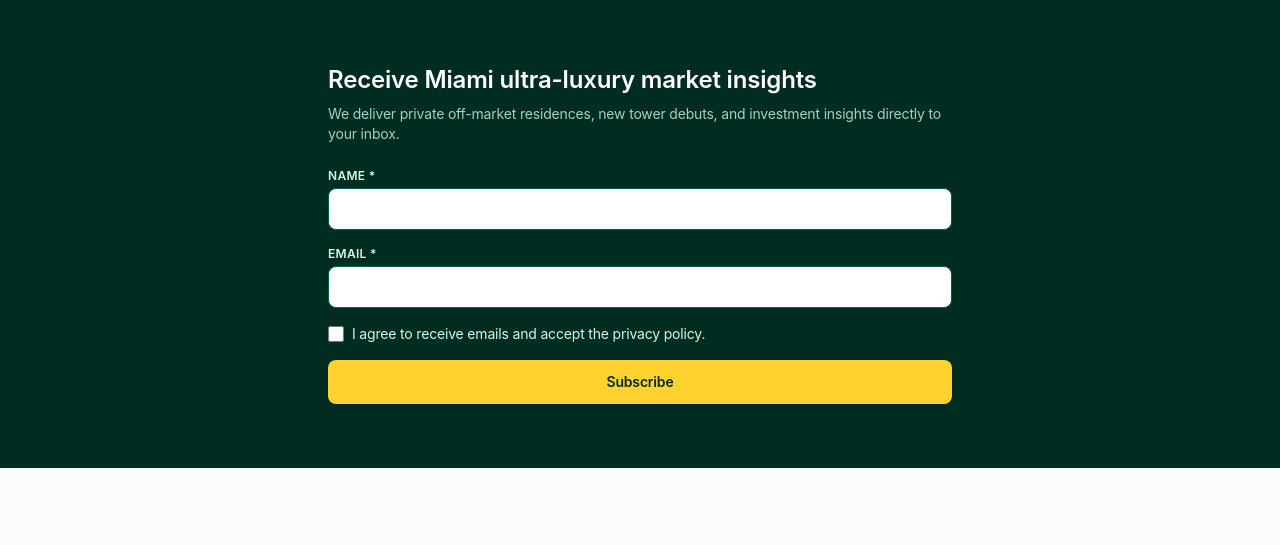
Scenario: NewsletterForm › posts trimmed data and shows success, then resets the form
The image size is (1280, 545).
Type " Ana " into the field labelled "Name *" at (640,209), box [328,188,952,230]
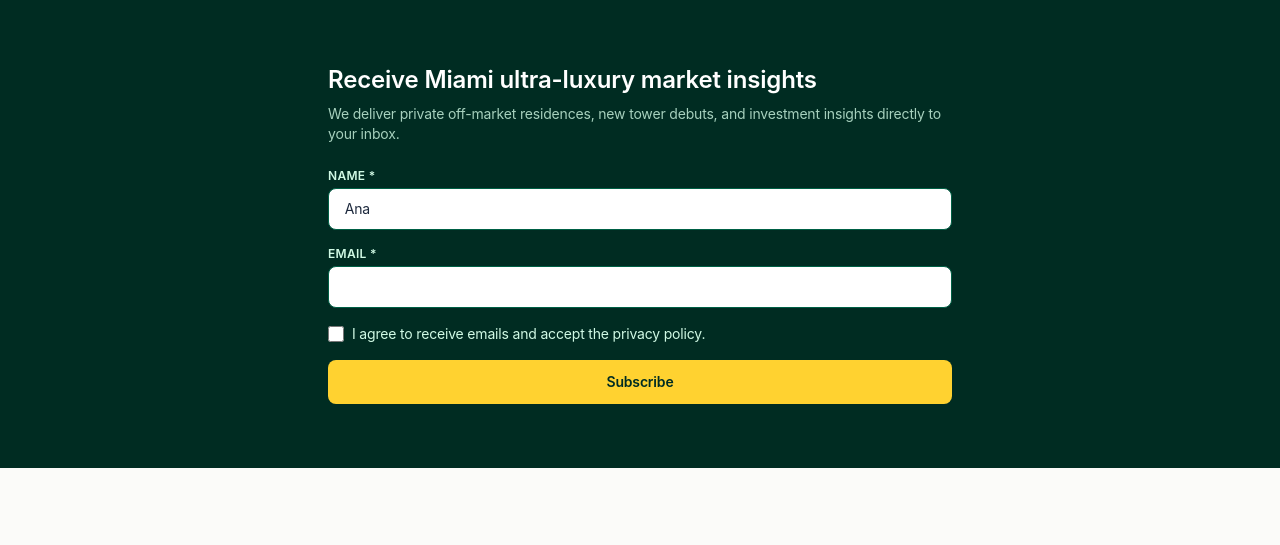
Type " ana@example.com " into the field labelled "Email *" at (640,287), box [328,266,952,308]
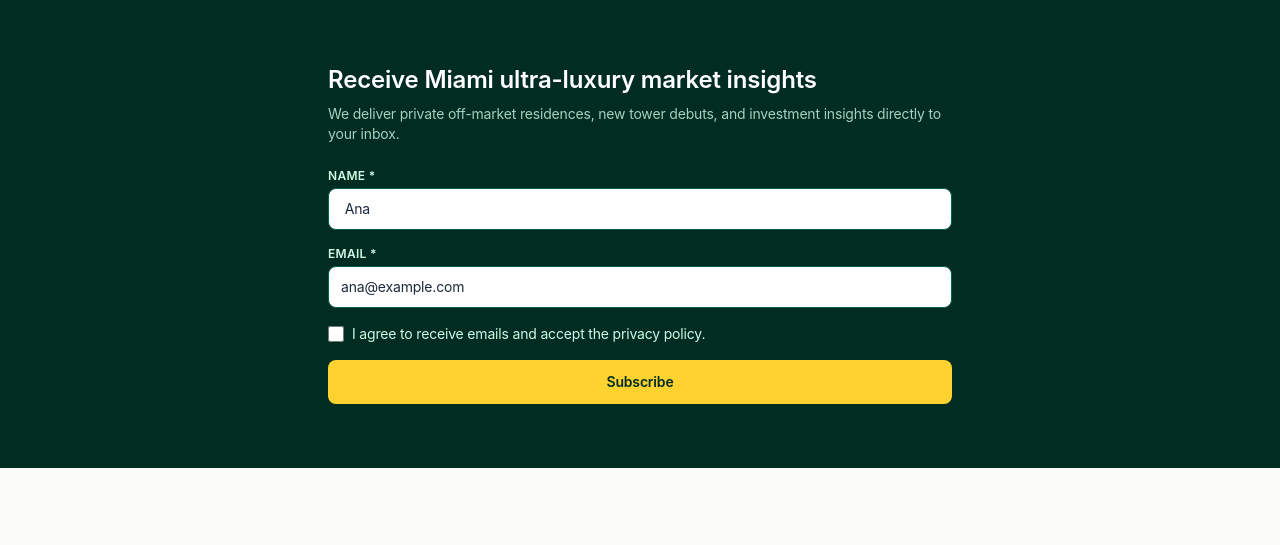
Click the checkbox at (336,334), box [328,326,344,342]
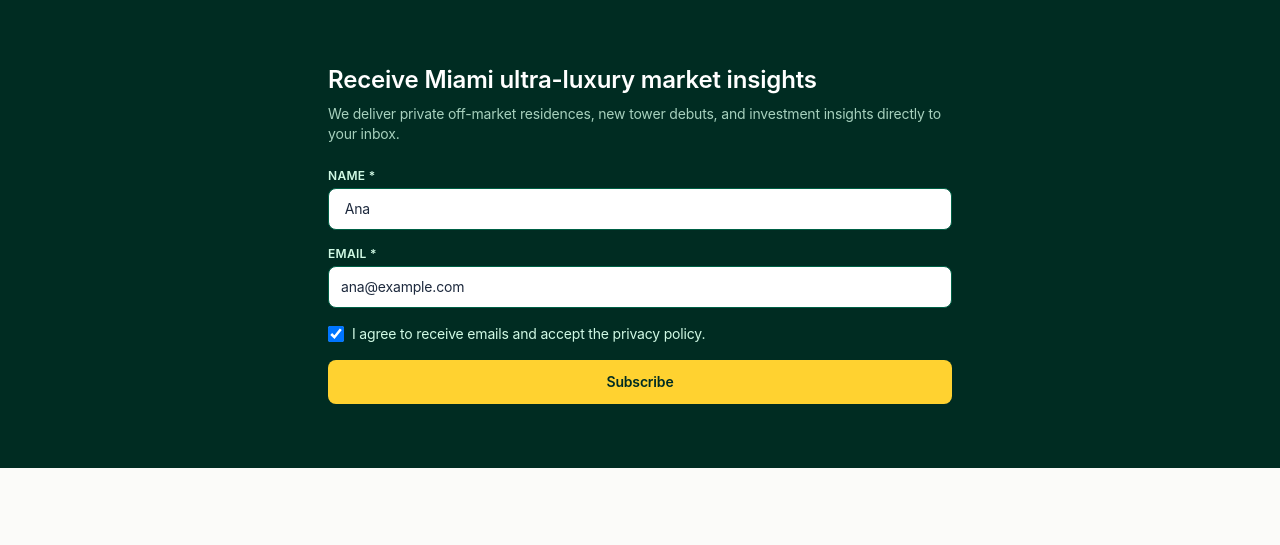
Click the button "Subscribe" at (640,382), box [328,360,952,404]
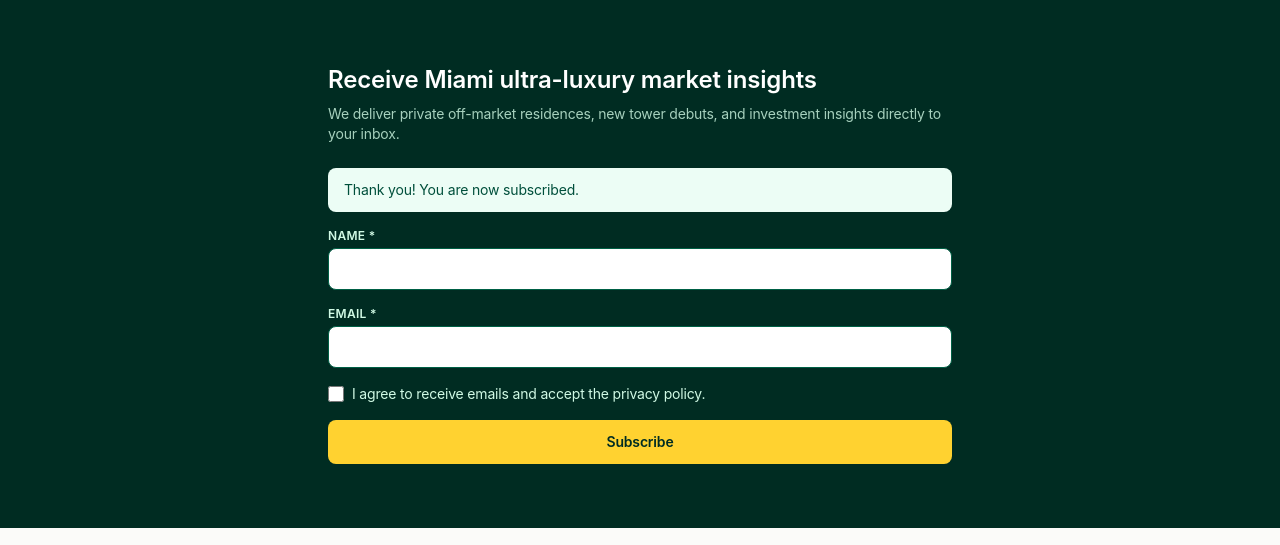
Now the text "Thank you! You are now subscribed." is shown, box [328,168,952,212]
Now the field labelled "Email *" is empty, box [328,326,952,368]
